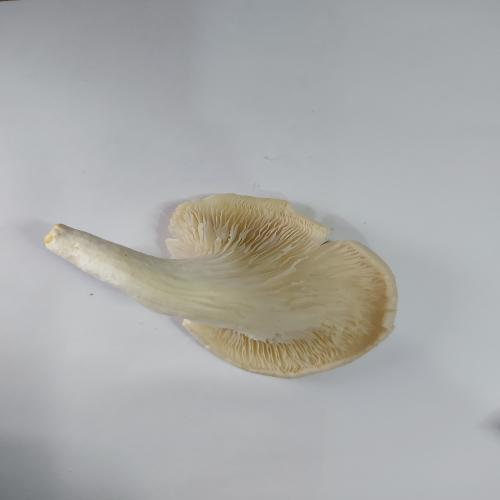Oyster Mushroom: (43, 192, 399, 379)
